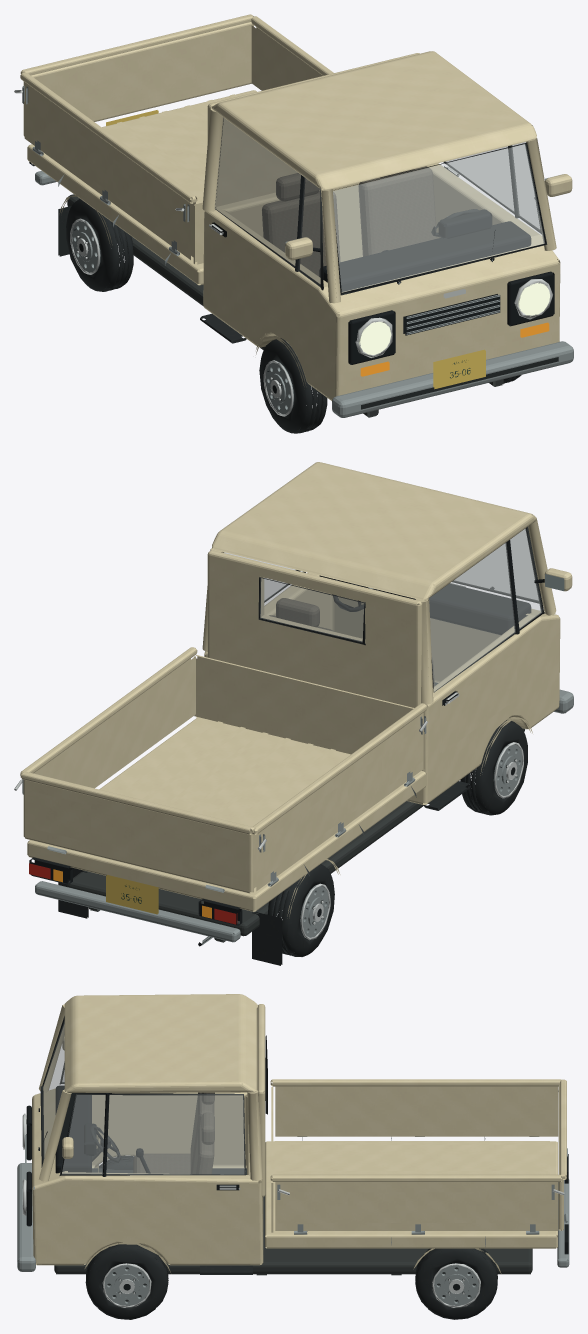
File: kei_truck-v11.glb
The picture shows the model from 3 angles, top to bottom: view 1: azimuth 30°, elevation 25°; view 2: azimuth 150°, elevation 25°; view 3: azimuth 270°, elevation 25°; orthographic projection. The views are drawn at different scales.
Visible parts, largest first — view 1: Body, Wheel_RL_mesh, Wheel_FL_mesh; view 2: Body, Wheel_FL_mesh, Wheel_RL_mesh; view 3: Body, Wheel_FR_mesh, Wheel_RR_mesh.
Part boxes in pixels (<box>): Body: <box>14,14,573,417</box>; Wheel_RL_mesh: <box>66,199,133,291</box>; Wheel_FL_mesh: <box>259,338,327,433</box>; Body: <box>14,462,573,965</box>; Wheel_FL_mesh: <box>460,720,527,815</box>; Wheel_RL_mesh: <box>267,864,334,956</box>; Body: <box>17,994,569,1275</box>; Wheel_FR_mesh: <box>85,1243,168,1319</box>; Wheel_RR_mesh: <box>415,1248,497,1319</box>.
Size of the model in its own units: 1.76 by 1.65 by 3.54.
16 materials, 3 textured.
